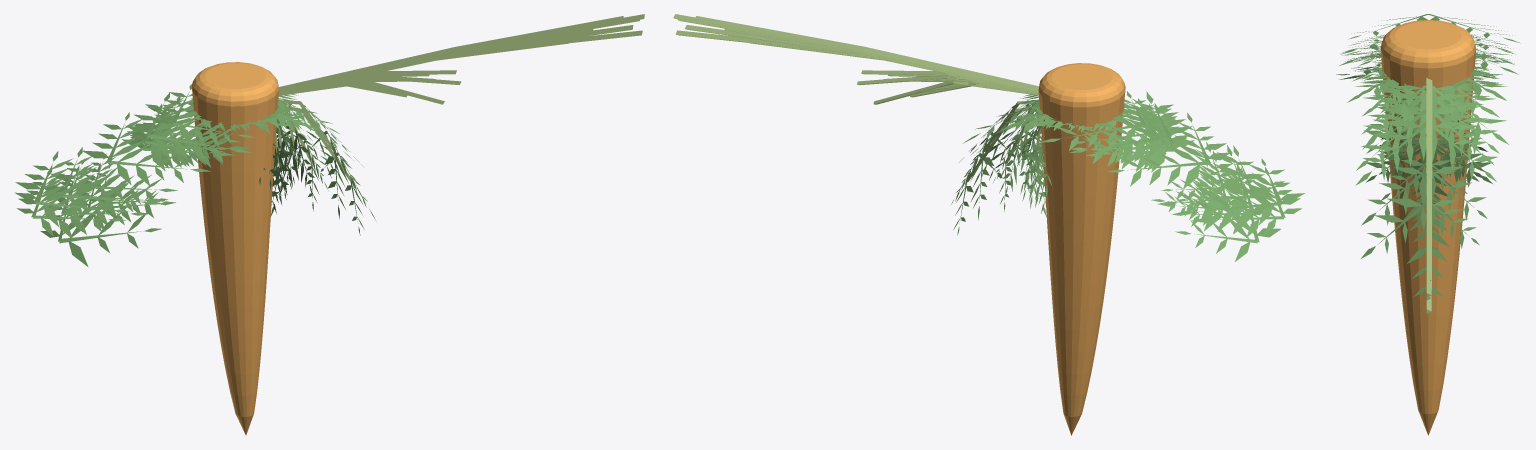
Rendered from carrot_harvest_v18.articulated.glb.
3 views of the same model, side by side, from view 1: azimuth 30°, elevation 25°; view 2: azimuth 150°, elevation 25°; view 3: azimuth 270°, elevation 25° (orthographic). The views are drawn at different scales.
Parts seen in each view (by area): view 1: root, leaf08_link2, leaf00_link2, leaf06_link2, leaf06_link0, leaf03_link2, leaf05_link2, leaf02_link2, leaf07_link2, leaf04_link2, leaf01_link2, leaf00_link0 (+3 smaller); view 2: root, leaf08_link2, leaf00_link2, leaf06_link2, leaf03_link2, leaf05_link2, leaf03_link0, leaf02_link2, leaf01_link2, leaf07_link2, leaf04_link2, leaf06_link0 (+1 smaller); view 3: root, leaf08_link2, leaf00_link2, leaf06_link2, leaf07_link2, leaf03_link0, leaf02_link2, leaf05_link2, leaf01_link2, leaf03_link2, leaf04_link2.
Part boxes in pixels (<box>): root: <box>191,62,278,435</box>; leaf08_link2: <box>17,84,363,239</box>; leaf00_link2: <box>14,95,336,226</box>; leaf06_link2: <box>40,92,376,266</box>; leaf06_link0: <box>279,30,642,93</box>; leaf03_link2: <box>39,102,303,215</box>; leaf05_link2: <box>59,96,316,215</box>; leaf02_link2: <box>49,102,318,231</box>; leaf07_link2: <box>81,107,328,226</box>; leaf04_link2: <box>78,98,295,208</box>; leaf01_link2: <box>91,113,306,217</box>; leaf00_link0: <box>279,14,644,87</box>; root: <box>1038,63,1125,435</box>; leaf08_link2: <box>959,91,1301,237</box>; leaf00_link2: <box>976,95,1305,229</box>; leaf06_link2: <box>951,91,1280,261</box>; leaf03_link2: <box>993,102,1272,220</box>; leaf05_link2: <box>1009,98,1259,212</box>; leaf03_link0: <box>694,16,1038,91</box>; leaf02_link2: <box>1001,103,1266,234</box>; leaf01_link2: <box>1010,107,1230,218</box>; leaf07_link2: <box>993,104,1235,222</box>; leaf04_link2: <box>1024,99,1243,201</box>; leaf06_link0: <box>675,30,1038,92</box>; root: <box>1380,20,1476,435</box>; leaf08_link2: <box>1340,34,1518,266</box>; leaf00_link2: <box>1339,14,1520,202</box>; leaf06_link2: <box>1336,53,1509,296</box>; leaf07_link2: <box>1351,55,1495,232</box>; leaf03_link0: <box>1426,77,1432,281</box>; leaf02_link2: <box>1351,53,1501,177</box>; leaf05_link2: <box>1345,43,1498,186</box>; leaf01_link2: <box>1372,60,1484,204</box>; leaf03_link2: <box>1342,38,1512,151</box>; leaf04_link2: <box>1356,52,1489,139</box>.
Bounding box in the file's own units: 0.2812 × 0.1591 × 0.0685.
Materials: 1 (1 with a texture image).
